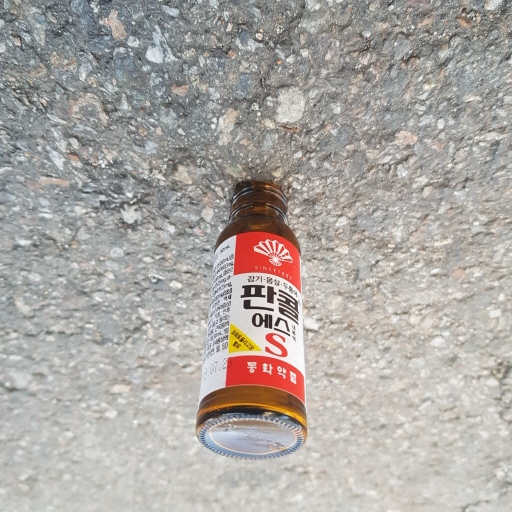Glass_3: (187, 180, 315, 462)
